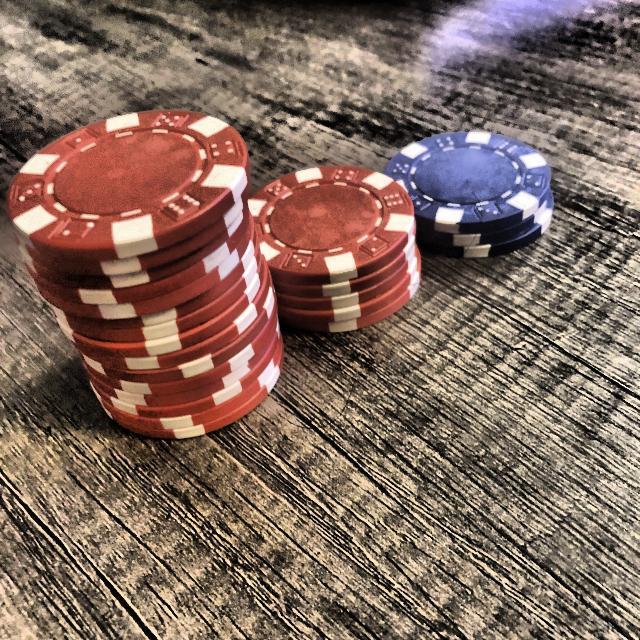Chip: (3, 75, 322, 451), (242, 137, 432, 346), (382, 109, 558, 275)
